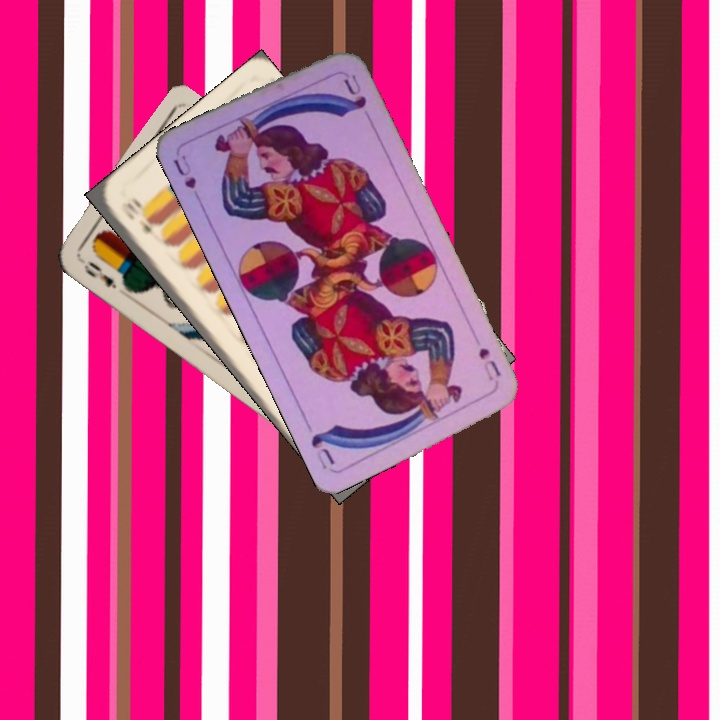E10: (117, 198, 154, 236)
EO: (79, 257, 119, 292)
SU: (169, 150, 205, 208), (474, 343, 504, 384)
